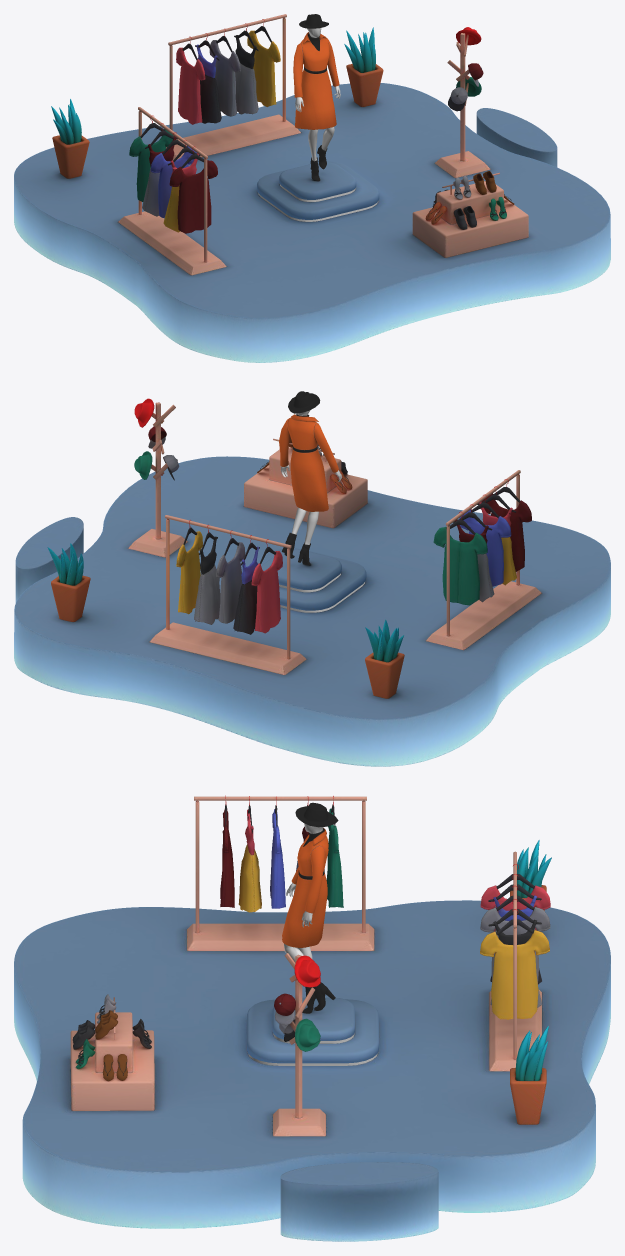
The model's file is LeviCam5.glb.
The picture shows the model from 3 angles, top to bottom: view 1: azimuth 30°, elevation 25°; view 2: azimuth 150°, elevation 25°; view 3: azimuth 270°, elevation 25°; orthographic projection. The views are drawn at different scales.
Parts seen in each view (by area): view 1: LeviCamBase, LeviCamSet, LeviCamManneDrs, LeviCamManneBdy, LeviCamBsGlw; view 2: LeviCamBase, LeviCamSet, LeviCamManneDrs, LeviCamManneBdy; view 3: LeviCamBase, LeviCamSet, LeviCamManneDrs, LeviCamManneBdy.
Boxes of the visible parts, x1,y1,x2,y2 form: LeviCamBase: (14,83,610,362); LeviCamSet: (51,14,528,275); LeviCamManneDrs: (293,14,339,181); LeviCamManneBdy: (295,28,340,161); LeviCamBsGlw: (258,184,378,221); LeviCamBase: (14,456,610,766); LeviCamSet: (47,398,541,698); LeviCamManneDrs: (279,391,338,565); LeviCamManneBdy: (280,410,341,544); LeviCamBase: (14,900,610,1241); LeviCamSet: (70,795,551,1136); LeviCamManneDrs: (282,802,338,1013); LeviCamManneBdy: (284,823,323,962).
Size of the model in its own units: 7.58 by 3.58 by 6.72.
6 materials, 4 textured.
